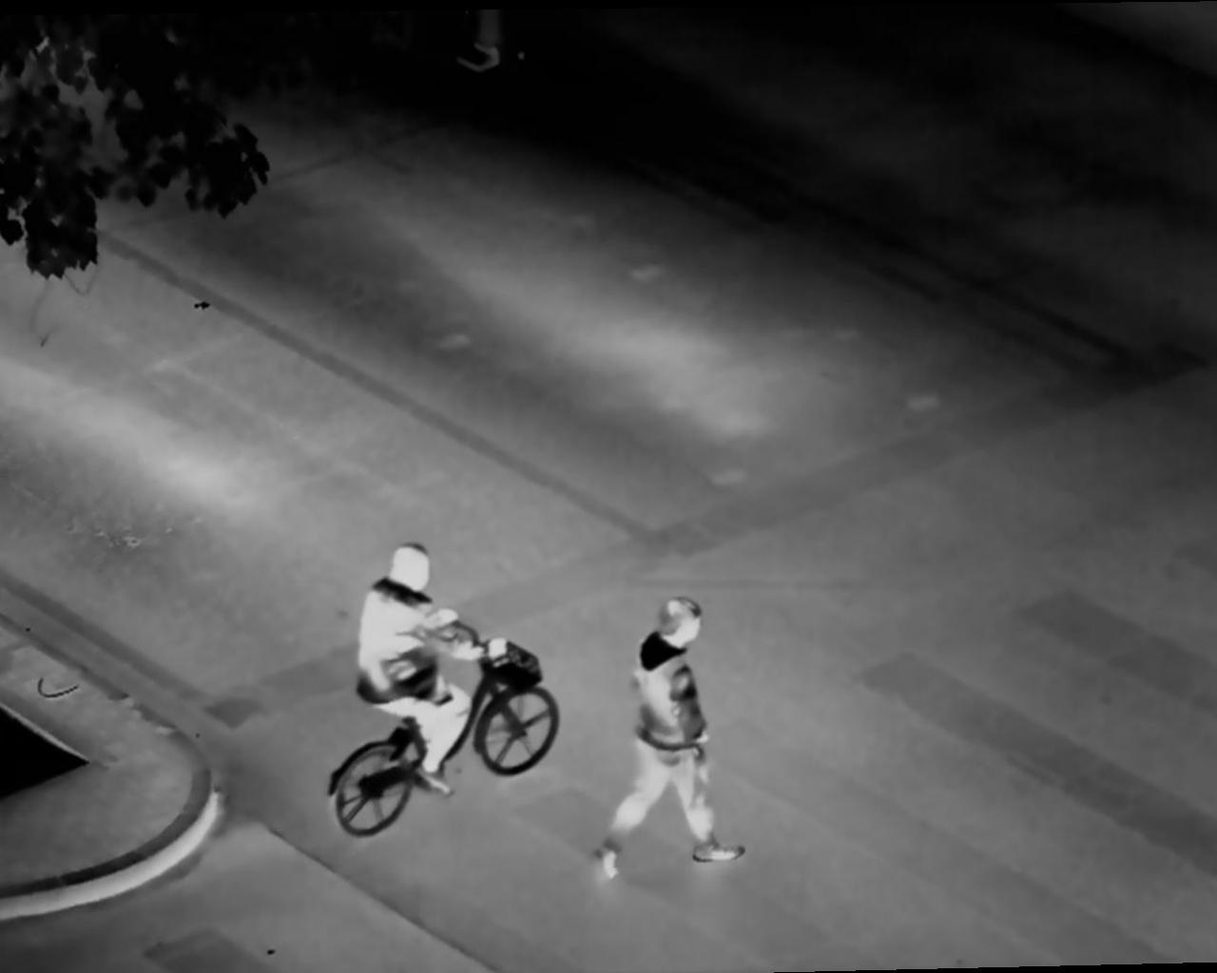person: (344, 532, 508, 794), (603, 592, 750, 873)
